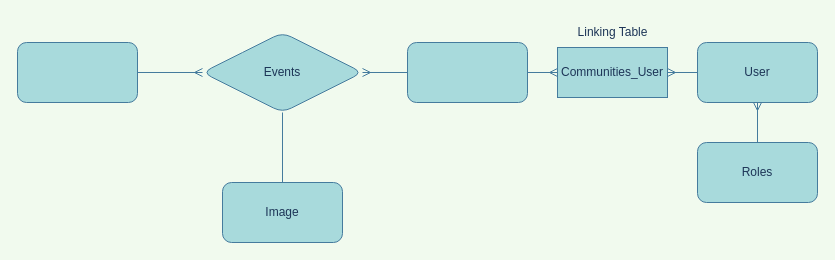
Image size: 835x260. Some labels were removed from this diagram. Each missing label, with the centre of its shape:
Communities: (467,72)
Organiser: (77,72)
